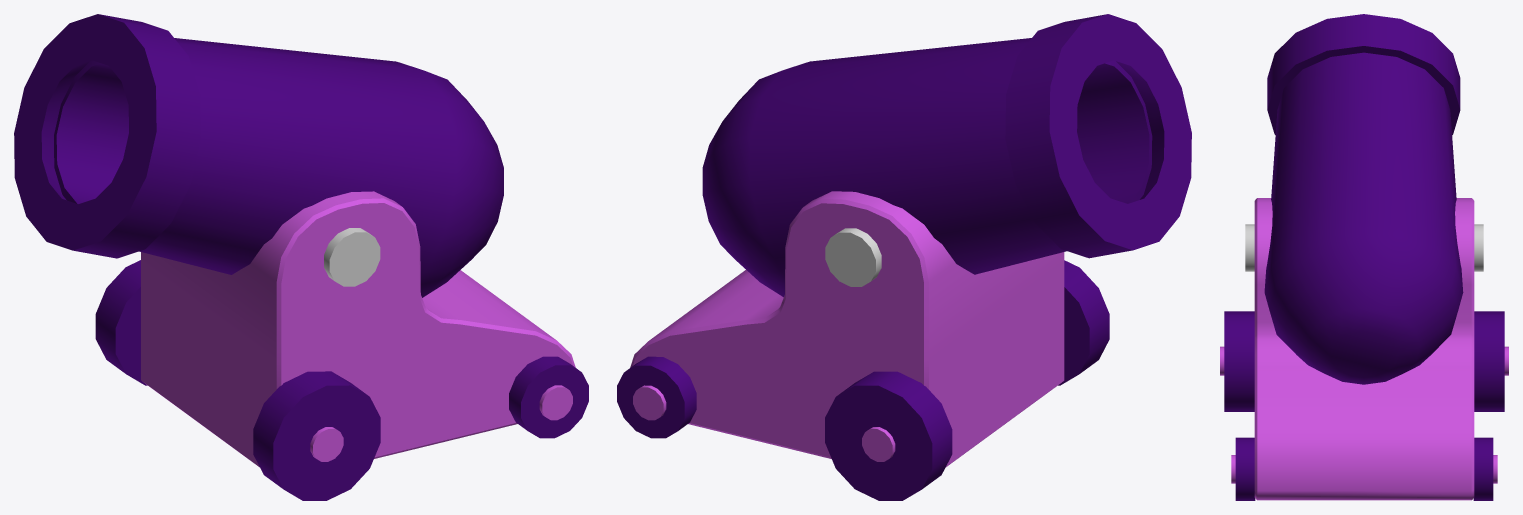
The model's file is cannon_bonus_01.fbx.
The picture shows the model from 3 angles, left to right: view 1: azimuth 30°, elevation 25°; view 2: azimuth 150°, elevation 25°; view 3: azimuth 270°, elevation 25°; orthographic projection. The views are drawn at different scales.
Visible parts, largest first — view 1: cannon_bonus_01; view 2: cannon_bonus_01; view 3: cannon_bonus_01.
Part boxes in pixels (x1,y1,x2,y2): cannon_bonus_01: (14, 14, 588, 500); cannon_bonus_01: (617, 14, 1191, 500); cannon_bonus_01: (1220, 14, 1508, 500).
Bounding box in the file's own units: 0.3615 × 0.3254 × 0.2439.
